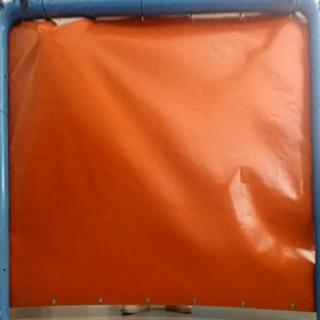Hit-hRxx: (32, 22, 55, 41)
